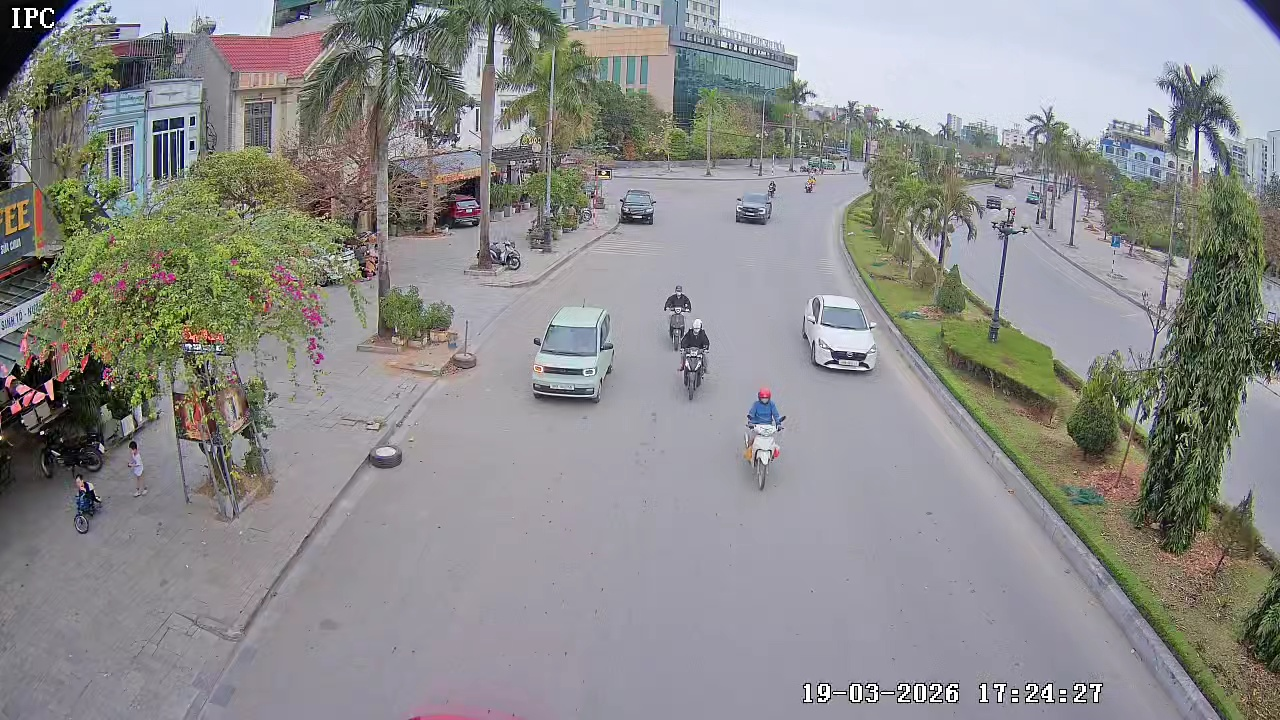car: (530, 303, 617, 402), (800, 292, 878, 373), (734, 184, 775, 225), (618, 187, 657, 225)
motorbike: (739, 387, 788, 490), (677, 316, 712, 401), (662, 283, 693, 351)
